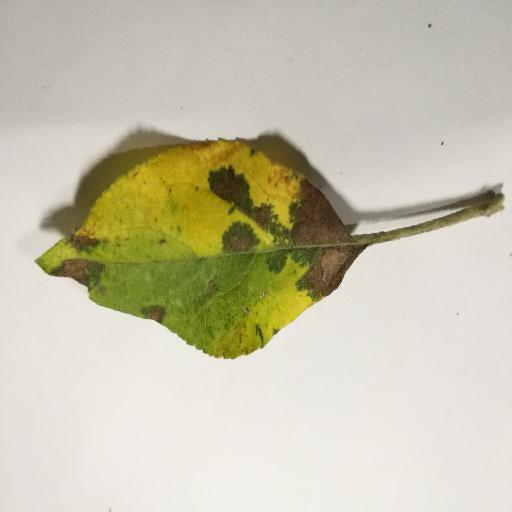Brown_Spot: (205, 160, 360, 305), (40, 224, 114, 284), (142, 299, 167, 328)
